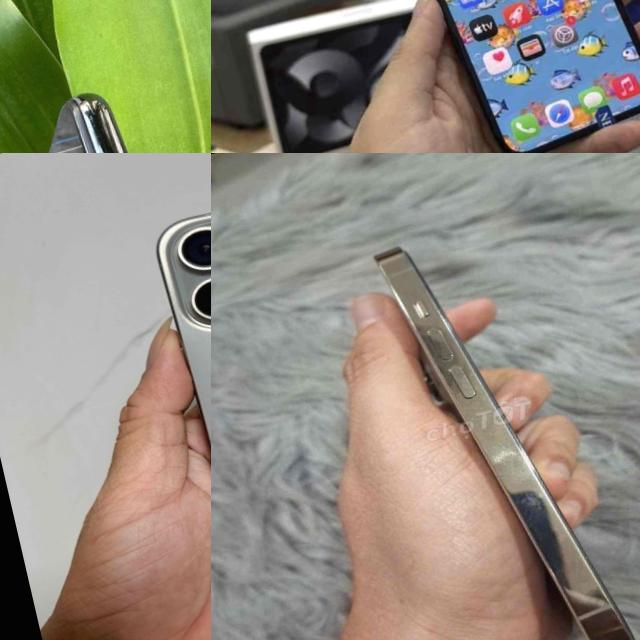gen_14: (363, 195, 640, 640), (380, 0, 640, 153)
gen_15: (136, 166, 211, 592)
gen_x_xs: (0, 70, 211, 153)
scratch: (474, 426, 565, 536)
